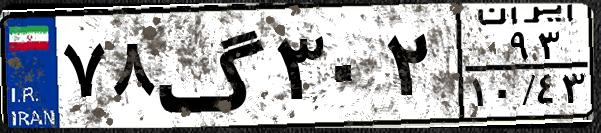0: (330, 28, 385, 110), (495, 70, 520, 125)
1: (470, 70, 495, 125)
2: (385, 28, 445, 110)
3: (270, 28, 330, 110), (560, 70, 590, 125), (537, 27, 568, 80)
4: (535, 70, 560, 125)
7: (57, 26, 110, 100)
8: (110, 28, 156, 98)
9: (508, 27, 537, 80)
گ: (156, 12, 270, 120)
